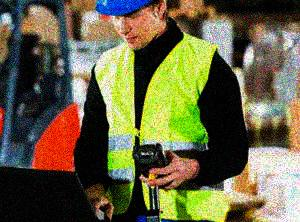helmet: (95, 1, 167, 49)
